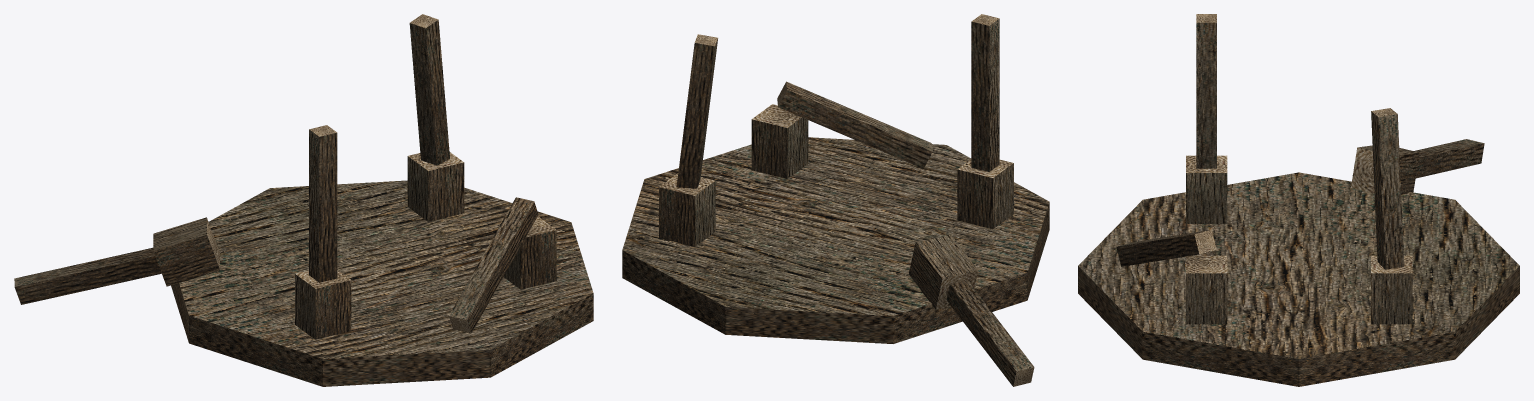
Rendered from mm9_deco_tableround3.glb.
3 views of the same model, side by side, from view 1: azimuth 30°, elevation 25°; view 2: azimuth 150°, elevation 25°; view 3: azimuth 270°, elevation 25° (orthographic).
Parts seen in each view (by area): view 1: Tableround3; view 2: Tableround3; view 3: Tableround3.
Part boxes in pixels (left/top/right/bottom): Tableround3: left=14, top=14, right=593, bottom=386; Tableround3: left=622, top=14, right=1049, bottom=386; Tableround3: left=1078, top=14, right=1519, bottom=386.
Size of the model in its own units: 2.48 by 1.13 by 2.01.
2 materials, 2 textured.
